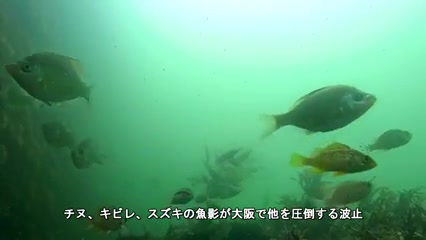mebaru: (289, 138, 385, 179)
smallfish: (258, 76, 386, 140), (6, 49, 101, 116), (359, 125, 418, 160)
